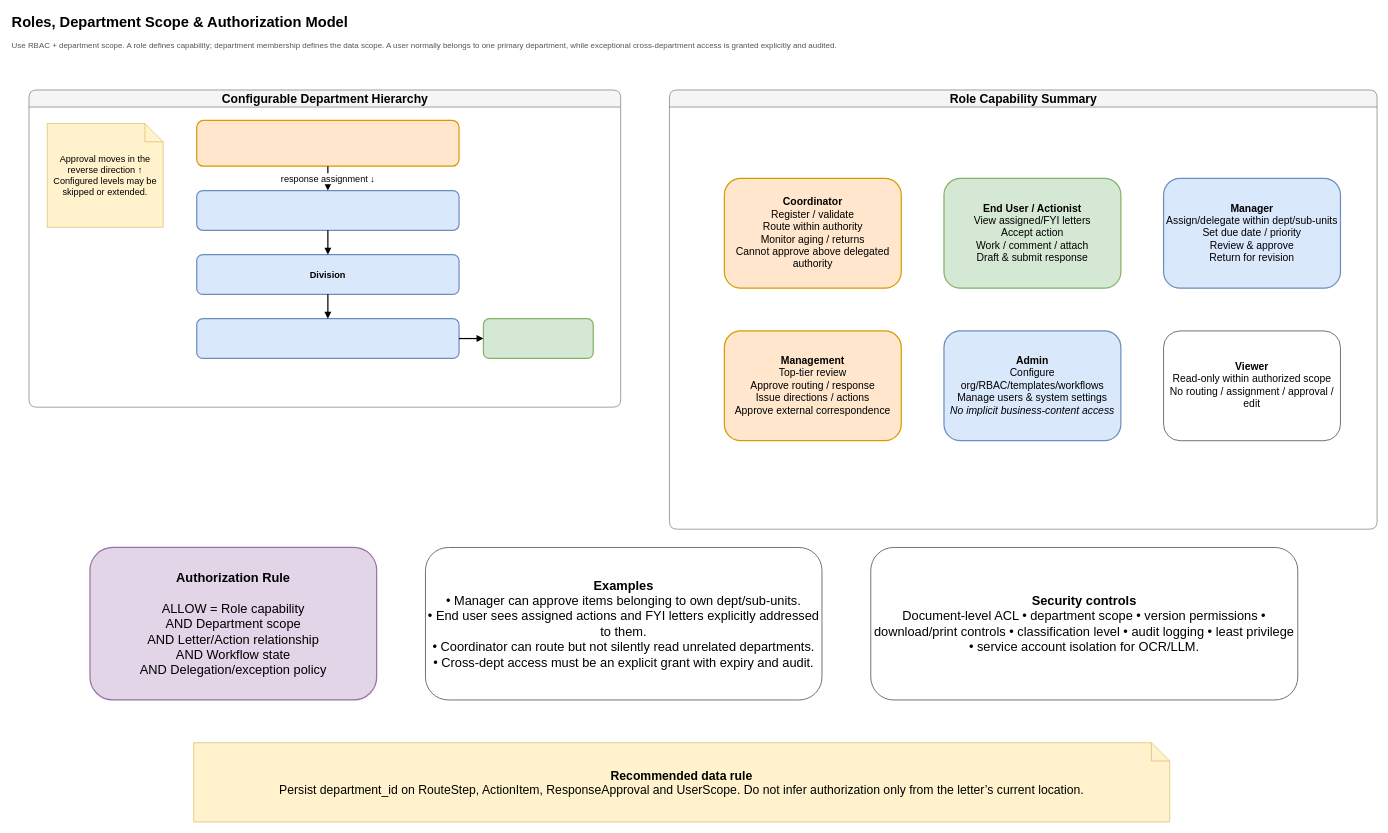
The diagram is 1388 pixels wide and 833 high, and some of its shapes have lost their labels. The shapes that lost their labels are listed below. From the top down, each one's centre as x and y in pixels, then its label:
[327,143]: Secretariat External gateway • top approvals • dispatch
[327,210]: Wing / Directorate General
[327,338]: Section
[538,338]: Group / End User
